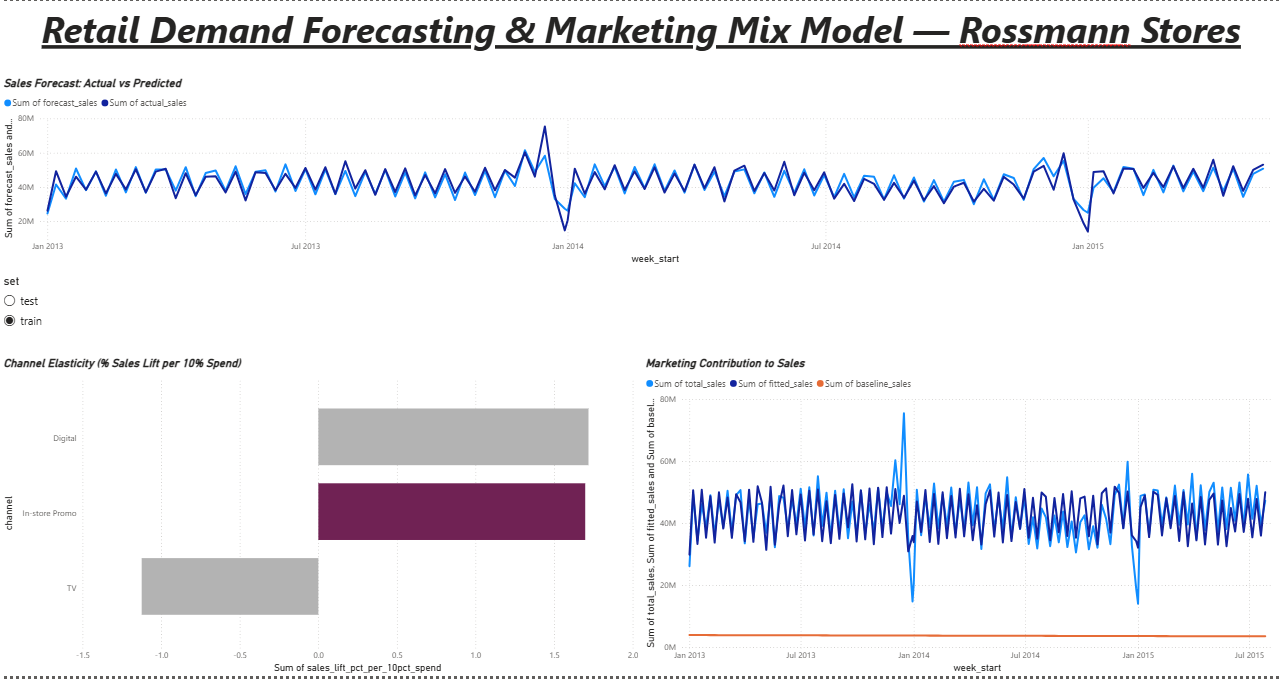

Layout of this report page (visuals, bound fields, positions):
{"tool":"powerbi","page":{"name":"Page 1","canvas":[1900,1000],"ordinal":0},"visuals":[{"type":"lineChart","title":"Sales Forecast: Actual vs Predicted","fields":{"Y":["Sum(forecast_results.forecast_sales)","Sum(forecast_results.actual_sales)"],"Category":["forecast_results.week_start"]},"box":[0,110,1900,283.3],"z":0},{"type":"lineChart","title":"Marketing Contribution to Sales","fields":{"Y":["Sum(mmm_results.total_sales)","Sum(mmm_results.fitted_sales)","Sum(mmm_results.baseline_sales)"],"Category":["mmm_results.week_start"]},"box":[950,526.7,950,473.3],"z":2},{"type":"clusteredBarChart","title":"Channel Elasticity (% Sales Lift per 10% Spend)","fields":{"Category":["mmm_elasticities.channel"],"Y":["Sum(mmm_elasticities.sales_lift_pct_per_10pct_spend)"]},"box":[0,526.7,950,473.3],"z":3},{"type":"listSlicer","fields":{"Values":["forecast_results.set"]},"box":[0,403.3,1900,123.3],"z":4},{"type":"textbox","box":[0,0,1900,110],"z":5}]}

Visuals, with their boxes in screenshot pixels (x1, y1, x2, y2), scaled from the page's 1900x1000 canvas onto the 1282x679 screenshot:
"Sales Forecast: Actual vs Predicted" lineChart: 0/75/1281/267
"Marketing Contribution to Sales" lineChart: 641/358/1281/678
"Channel Elasticity (% Sales Lift per 10% Spend)" clusteredBarChart: 0/358/641/678
listSlicer - forecast_results.set: 0/274/1281/358
textbox: 0/0/1281/75
